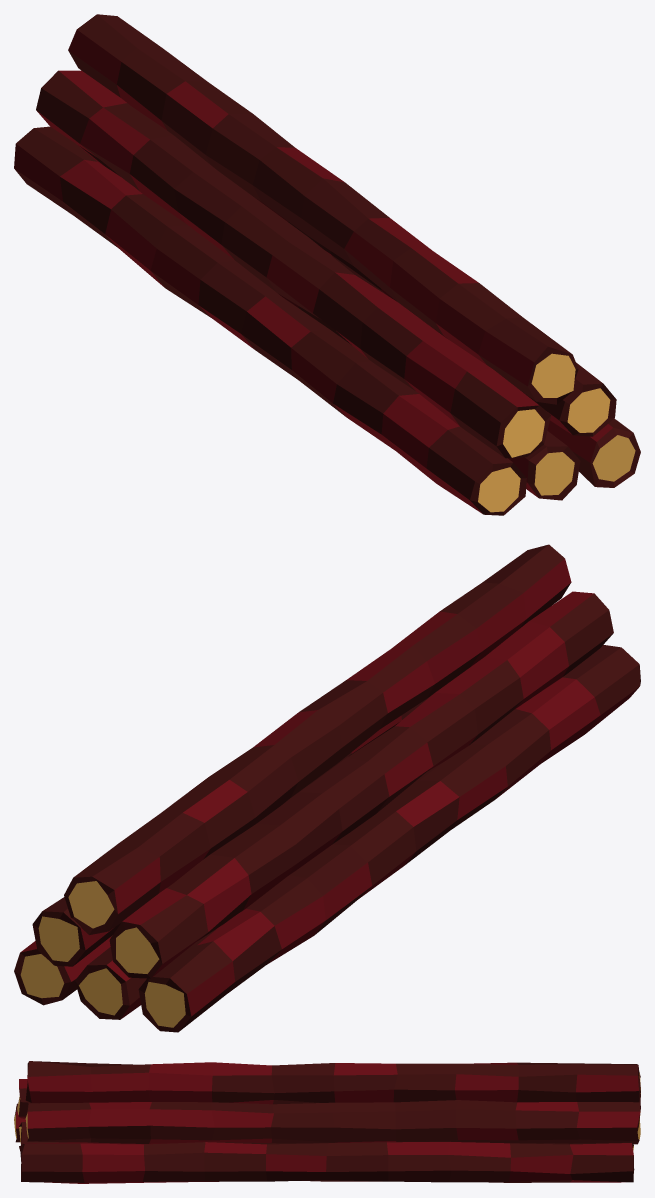
File: StackOfLogs.fbx
3 renders of one model, top to bottom at view 1: azimuth 30°, elevation 25°; view 2: azimuth 150°, elevation 25°; view 3: azimuth 270°, elevation 25°, orthographic. The views are drawn at different scales.
Visible parts, largest first — view 1: StackOfLogs; view 2: StackOfLogs; view 3: StackOfLogs.
Boxes of the visible parts, <box> form: StackOfLogs: <box>14,14,640,515</box>; StackOfLogs: <box>14,544,640,1032</box>; StackOfLogs: <box>14,1061,640,1183</box>.
Bounding box in the file's own units: 2.31 × 1.9 × 10.55.
